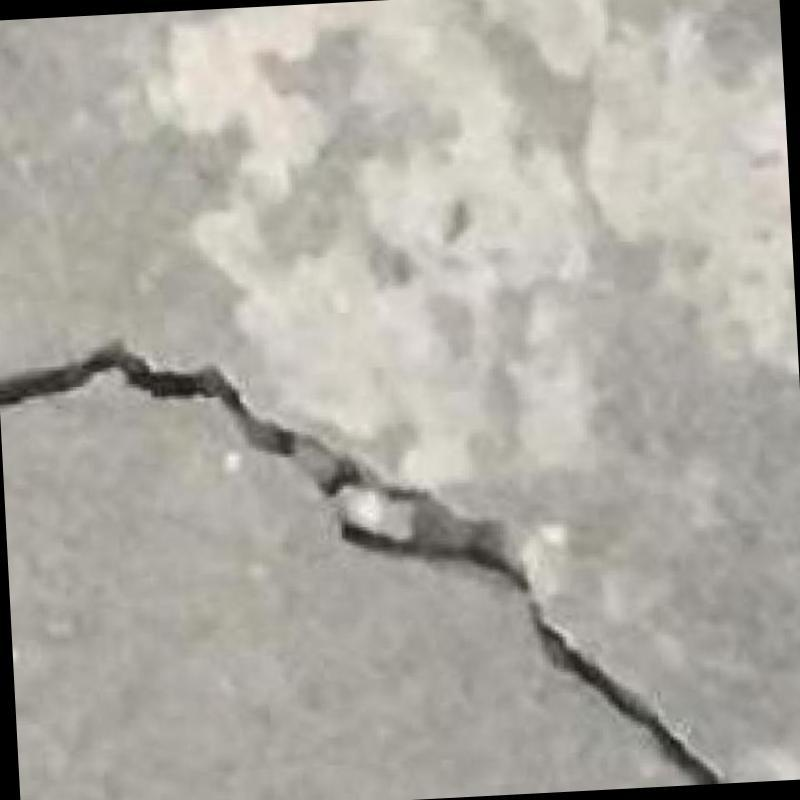crack: (0, 342, 724, 784)
